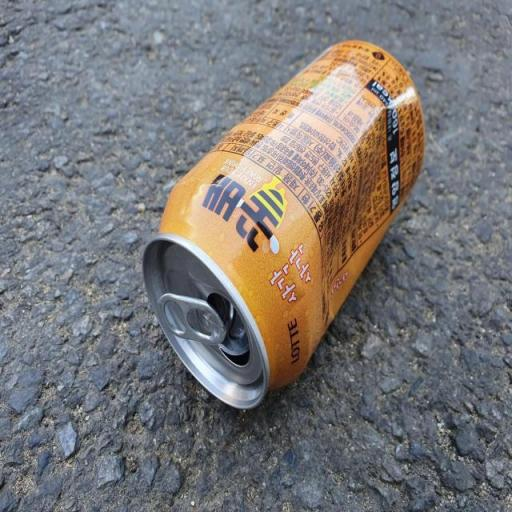metal: (127, 20, 448, 434)
